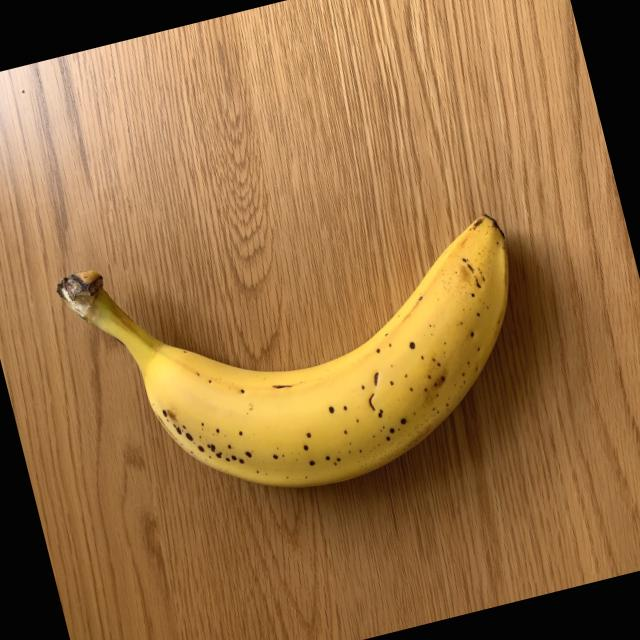banana: (51, 165, 559, 538)
